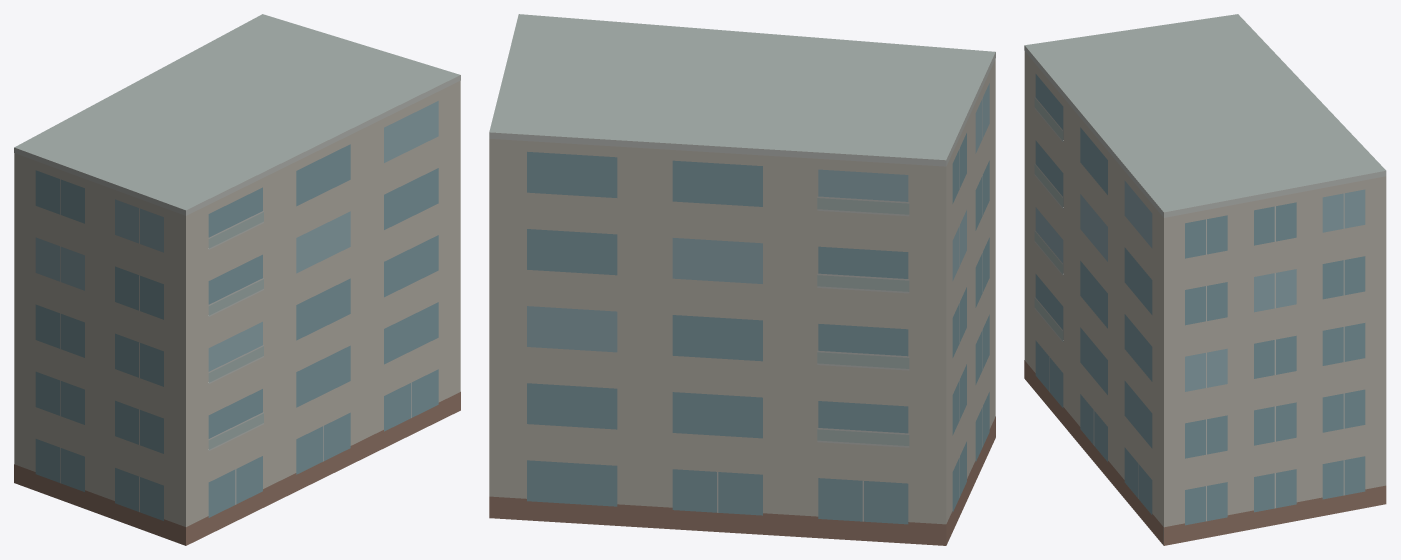
The model's file is survey-upis-32581560.glb.
3 renders of one model, left to right at view 1: azimuth 30°, elevation 25°; view 2: azimuth 150°, elevation 25°; view 3: azimuth 270°, elevation 25°, orthographic. The views are drawn at different scales.
Parts seen in each view (by area): view 1: survey-upis-32581560.tmp; view 2: survey-upis-32581560.tmp; view 3: survey-upis-32581560.tmp.
Boxes of the visible parts, box(x1,y1,x2,y2) form: survey-upis-32581560.tmp: box(14, 14, 460, 545); survey-upis-32581560.tmp: box(489, 14, 995, 545); survey-upis-32581560.tmp: box(1024, 14, 1386, 545).
Size of the model in its own units: 18.77 by 14.7 by 14.47.
